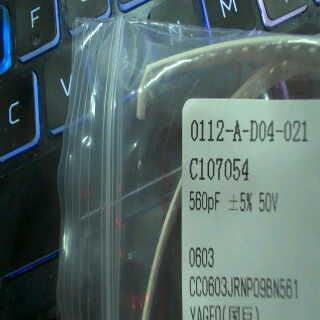560pF: (187, 187, 223, 219)
